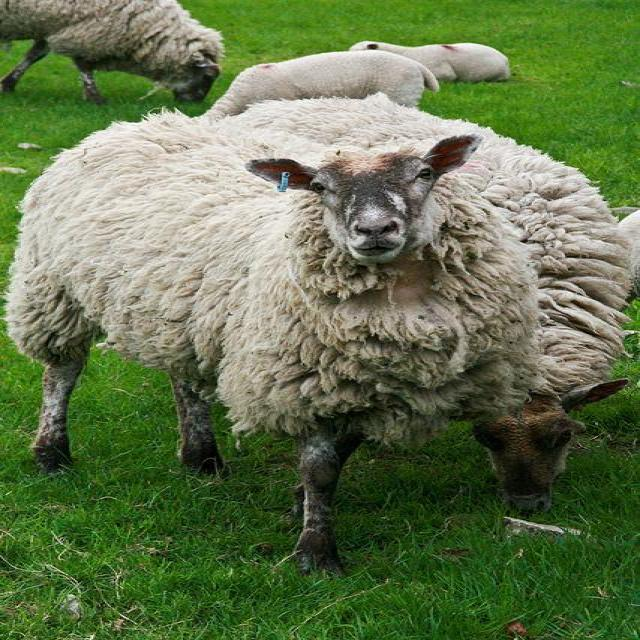Sheep: (17, 117, 538, 568), (228, 91, 635, 523), (5, 2, 224, 105), (202, 52, 444, 118), (344, 41, 506, 84)
